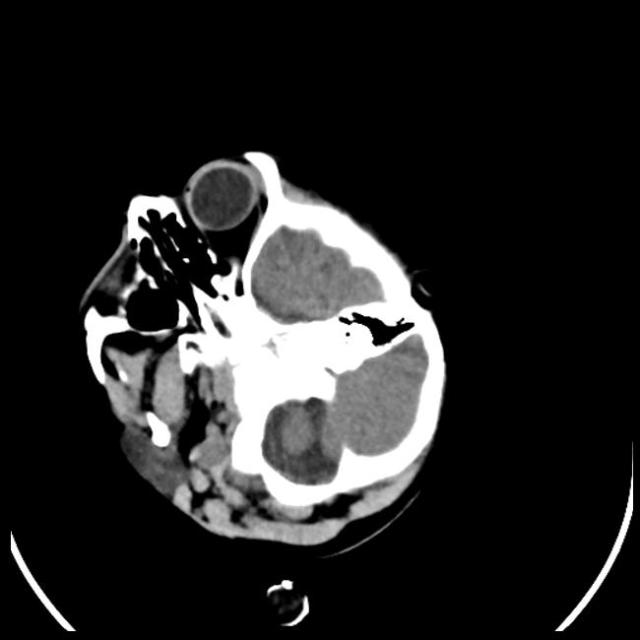lesion: (75, 146, 453, 551)
